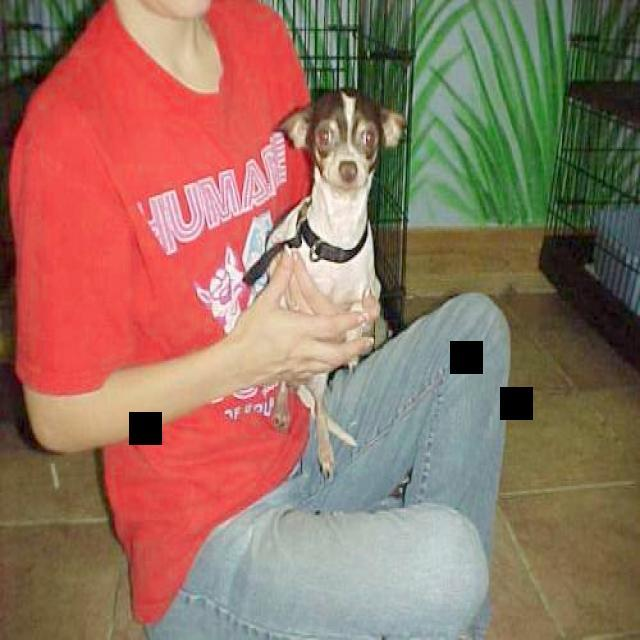adult_dog: (254, 88, 410, 482)
